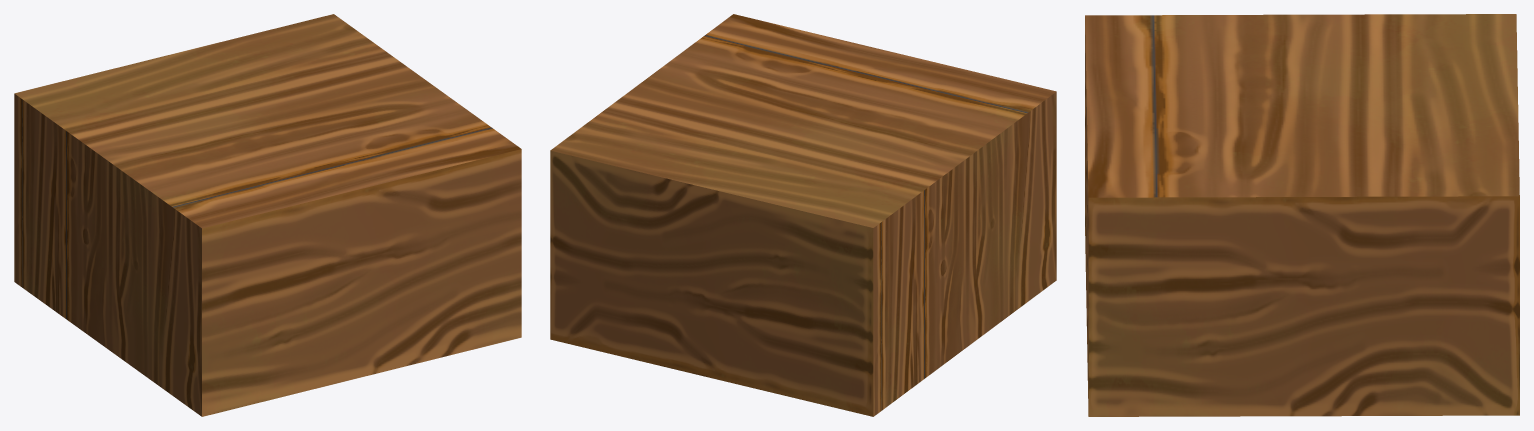
3 renders of one model, left to right at view 1: azimuth 30°, elevation 25°; view 2: azimuth 150°, elevation 25°; view 3: azimuth 270°, elevation 25°, orthographic. The views are drawn at different scales.
Visible parts, largest first — view 1: Cube.492; view 2: Cube.492; view 3: Cube.492.
Part boxes in pixels (x1,y1,x2,y2): Cube.492: [14, 14, 521, 416]; Cube.492: [550, 14, 1056, 416]; Cube.492: [1085, 14, 1519, 416].
Size of the model in its own units: 48.35 by 26.91 by 48.35.
Materials: 1 (1 with a texture image).
